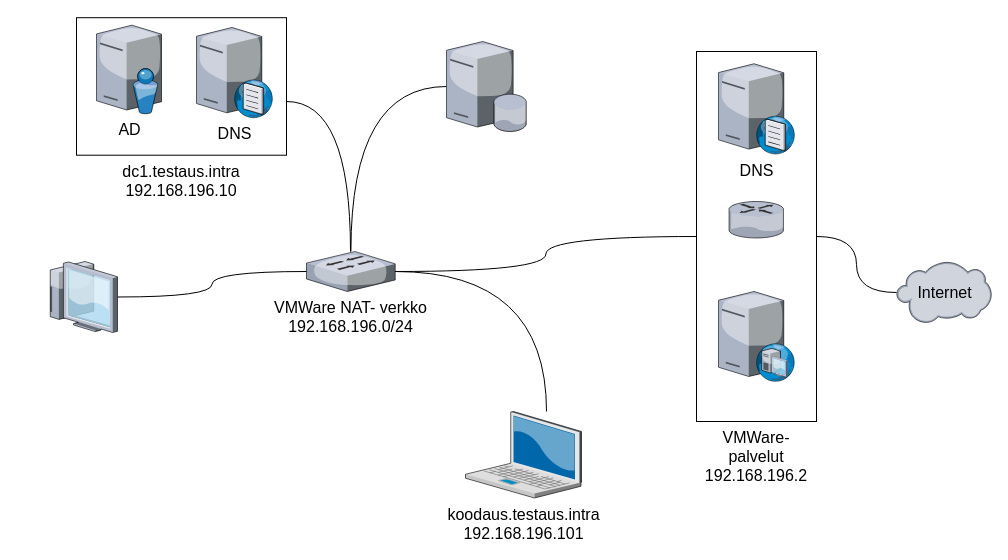
Some shapes in this 1008 by 560 pixel diagram are drawn without their labels. Each missing label, with the box of its shape:
Default Gateway: (728, 201, 784, 238)
DHCP: (718, 291, 794, 381)
Oikea kone (Host) 192.168.196.1: (46, 261, 117, 332)
sql.testaus.intra 192.168.196.60: (446, 41, 526, 131)
